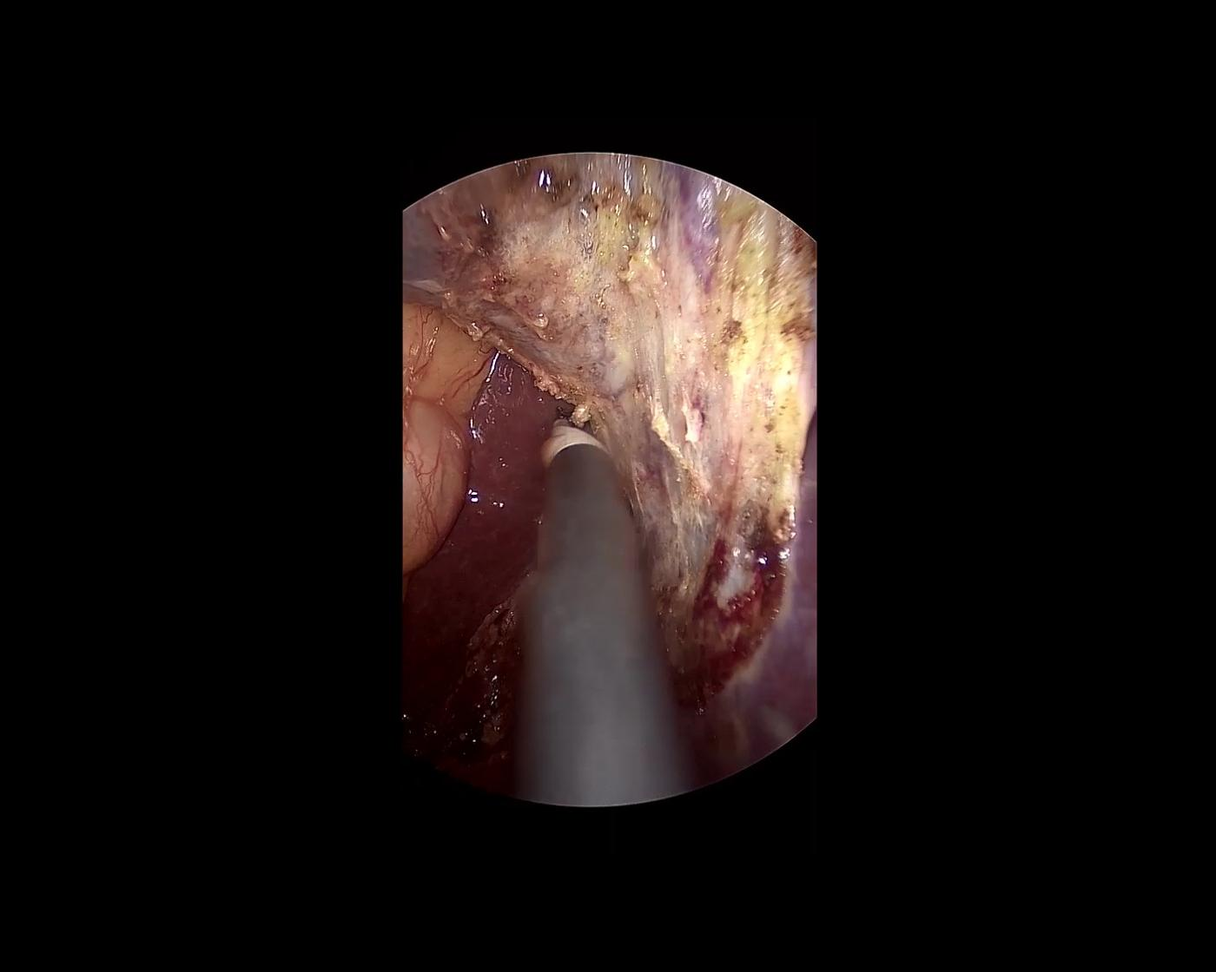Cautery: (519, 422, 688, 801)
Gallbladder: (363, 98, 867, 469)
Liver: (349, 356, 595, 748), (686, 424, 815, 787)
